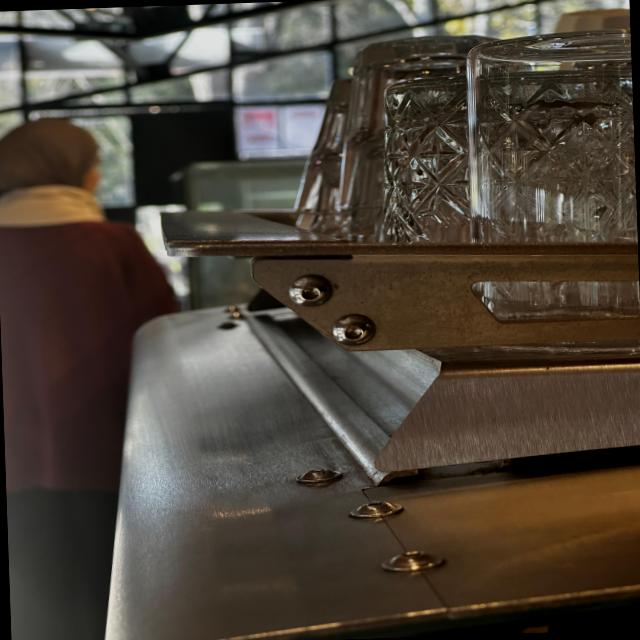Hex Socket Allen: (327, 312, 377, 352), (284, 273, 334, 311)
